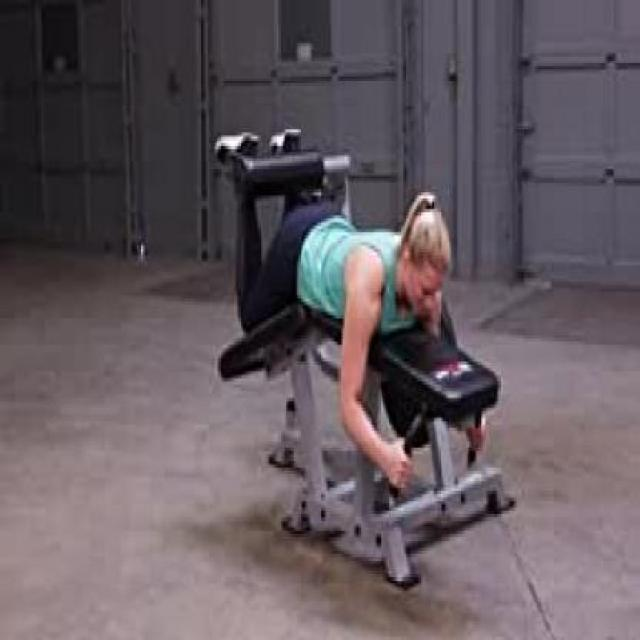reg curl machine: (214, 130, 518, 588)
